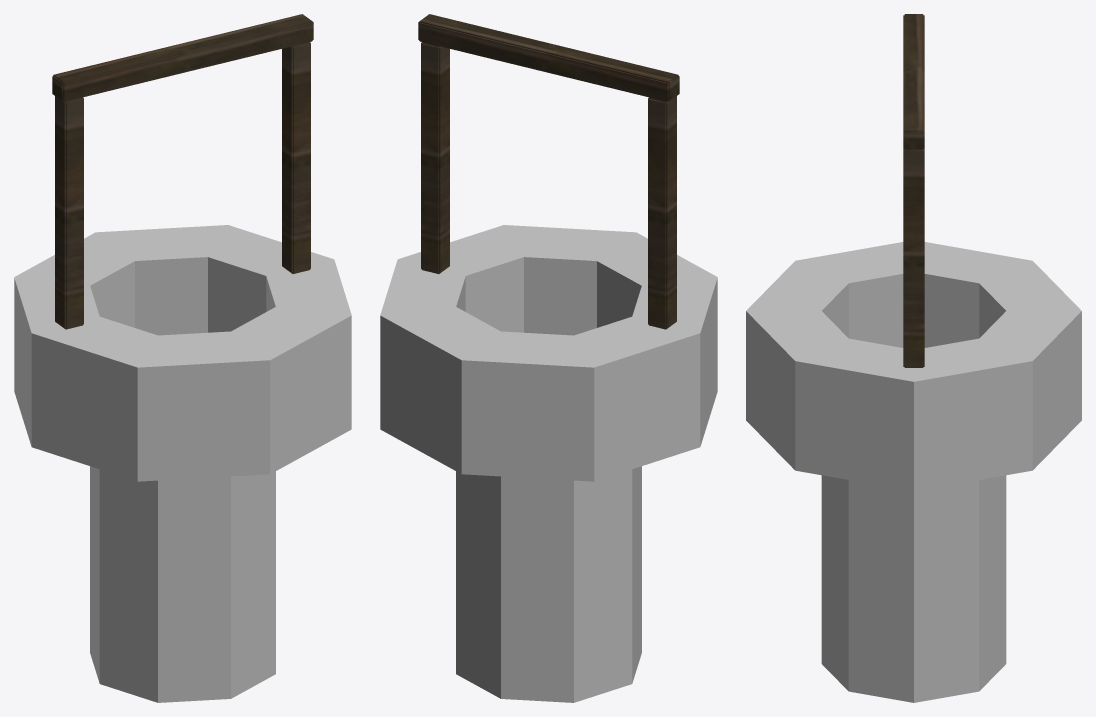
Rendered from well_basin.gltf.
3 views of the same model, side by side, from view 1: azimuth 30°, elevation 25°; view 2: azimuth 150°, elevation 25°; view 3: azimuth 270°, elevation 25° (orthographic). The views are drawn at different scales.
Visible parts, largest first — view 1: well_basin_basin, well_basin_beam, well_basin_post1, well_basin_post0; view 2: well_basin_basin, well_basin_beam, well_basin_post1, well_basin_post0; view 3: well_basin_basin, well_basin_post0, well_basin_beam.
Part boxes in pixels (left/top/right/bottom): well_basin_basin: left=14, top=225, right=351, bottom=702; well_basin_beam: left=52, top=14, right=313, bottom=101; well_basin_post1: left=55, top=96, right=83, bottom=329; well_basin_post0: left=282, top=42, right=310, bottom=273; well_basin_basin: left=380, top=225, right=717, bottom=702; well_basin_beam: left=418, top=14, right=679, bottom=101; well_basin_post1: left=648, top=96, right=676, bottom=329; well_basin_post0: left=421, top=42, right=449, bottom=273; well_basin_basin: left=746, top=242, right=1081, bottom=702; well_basin_post0: left=903, top=149, right=924, bottom=367; well_basin_beam: left=903, top=14, right=924, bottom=149.
Size of the model in its own units: 2.5 by 4.86 by 2.5.
